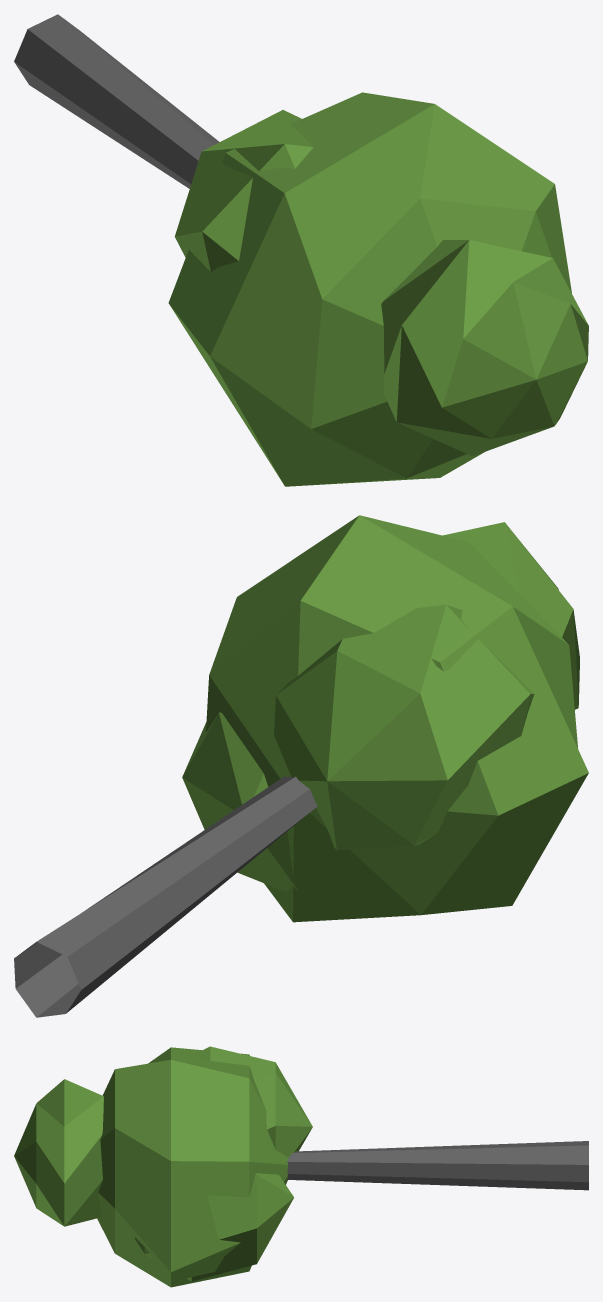
File: growth_1.glb
3 renders of one model, top to bottom at view 1: azimuth 30°, elevation 25°; view 2: azimuth 150°, elevation 25°; view 3: azimuth 270°, elevation 25°, orthographic. The views are drawn at different scales.
Visible parts, largest first — view 1: tree_04_growth_1; view 2: tree_04_growth_1; view 3: tree_04_growth_1.
Boxes of the visible parts, x1,y1,x2,y2 form: tree_04_growth_1: (14,14,588,486); tree_04_growth_1: (14,515,588,1017); tree_04_growth_1: (14,1046,588,1287).
Bounding box in the file's own units: 12.64 × 12.22 × 28.16.
